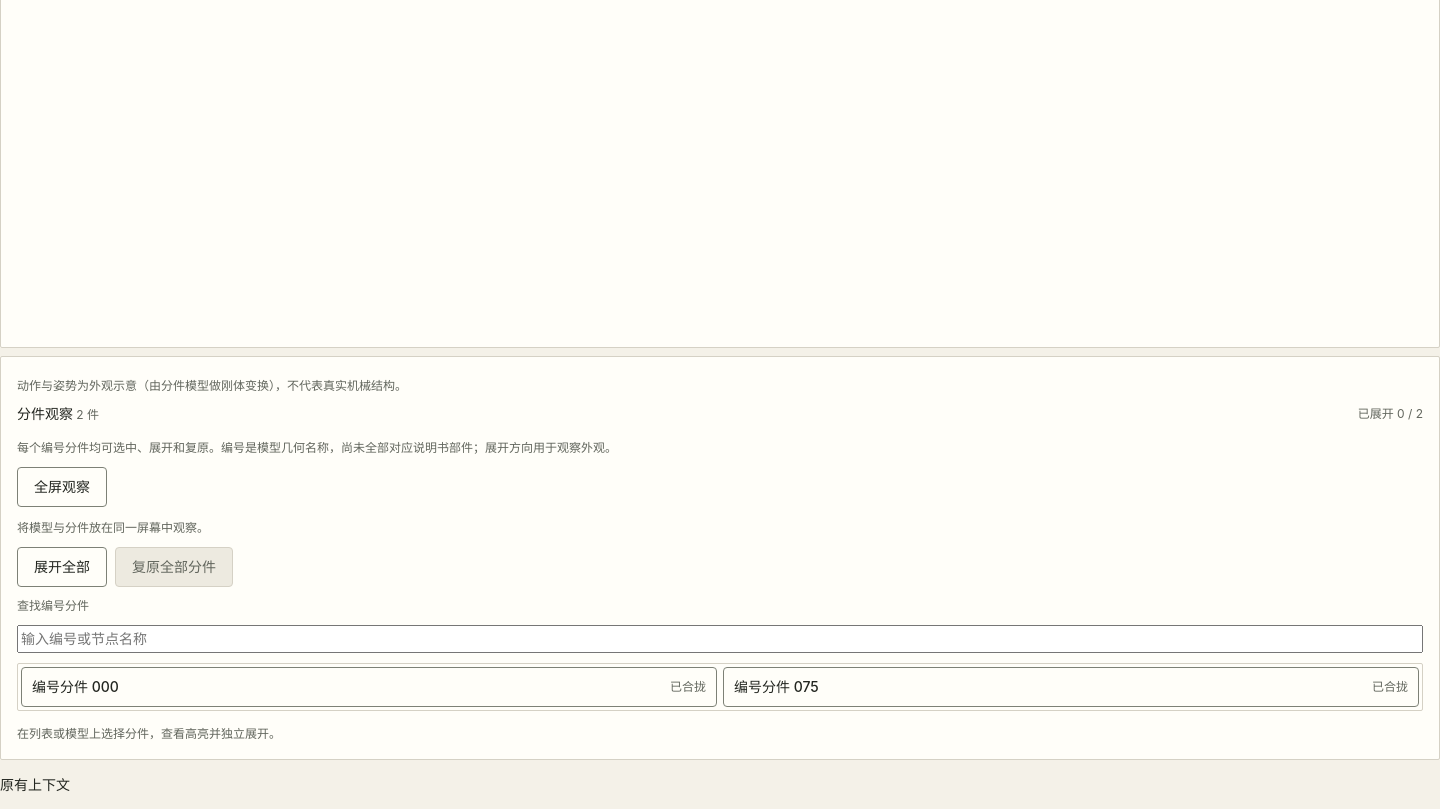
Test: 分件全屏观察 › Escape退出失败仅在本模型仍全屏时提示，浏览器同时已退出则不误报
(page scrolled)
Click the button with test id "parts-fullscreen". click: (62, 487)
box: [17,467,107,507]
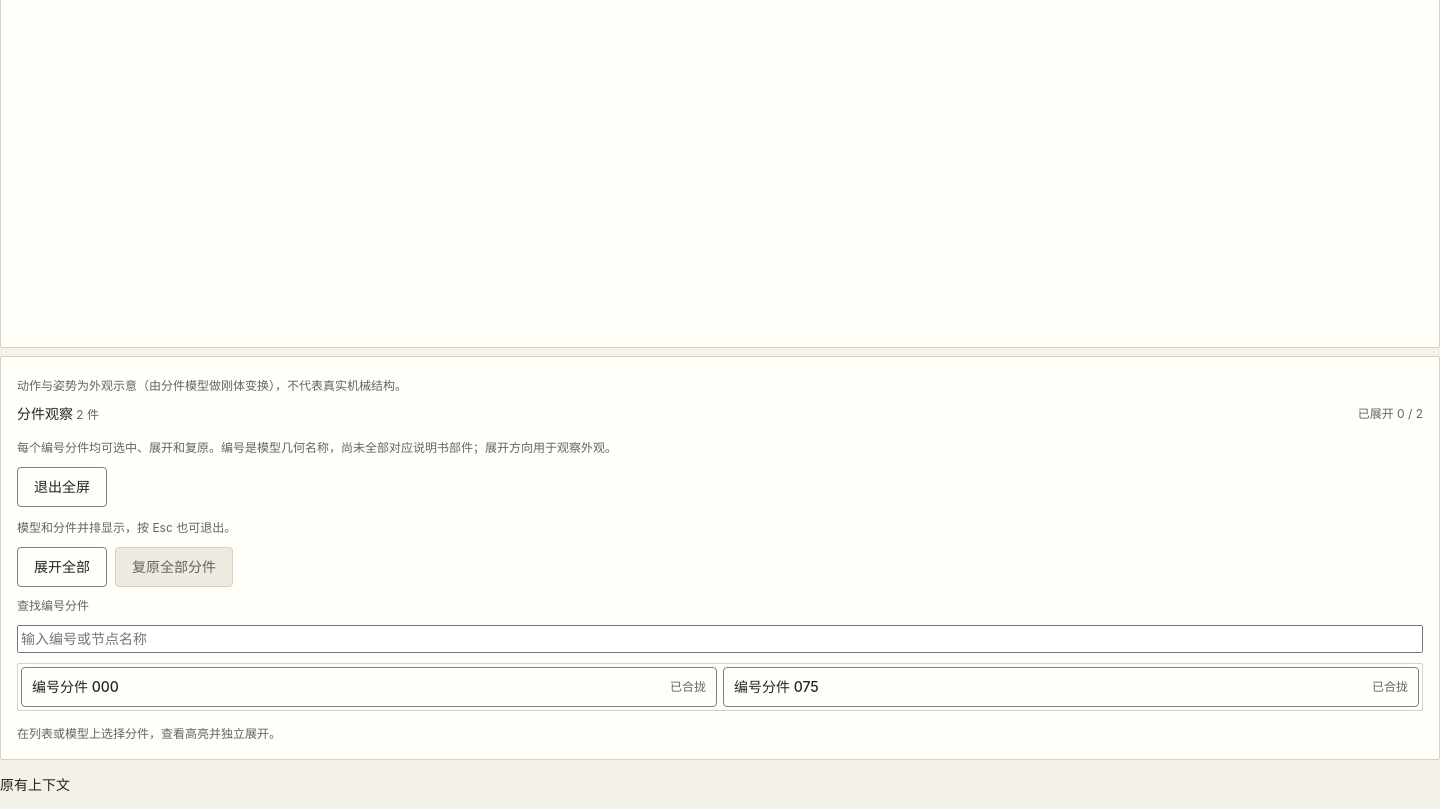
Check: the button with test id "parts-fullscreen" reads "退出全屏", box [17,467,107,507]
Press Escape
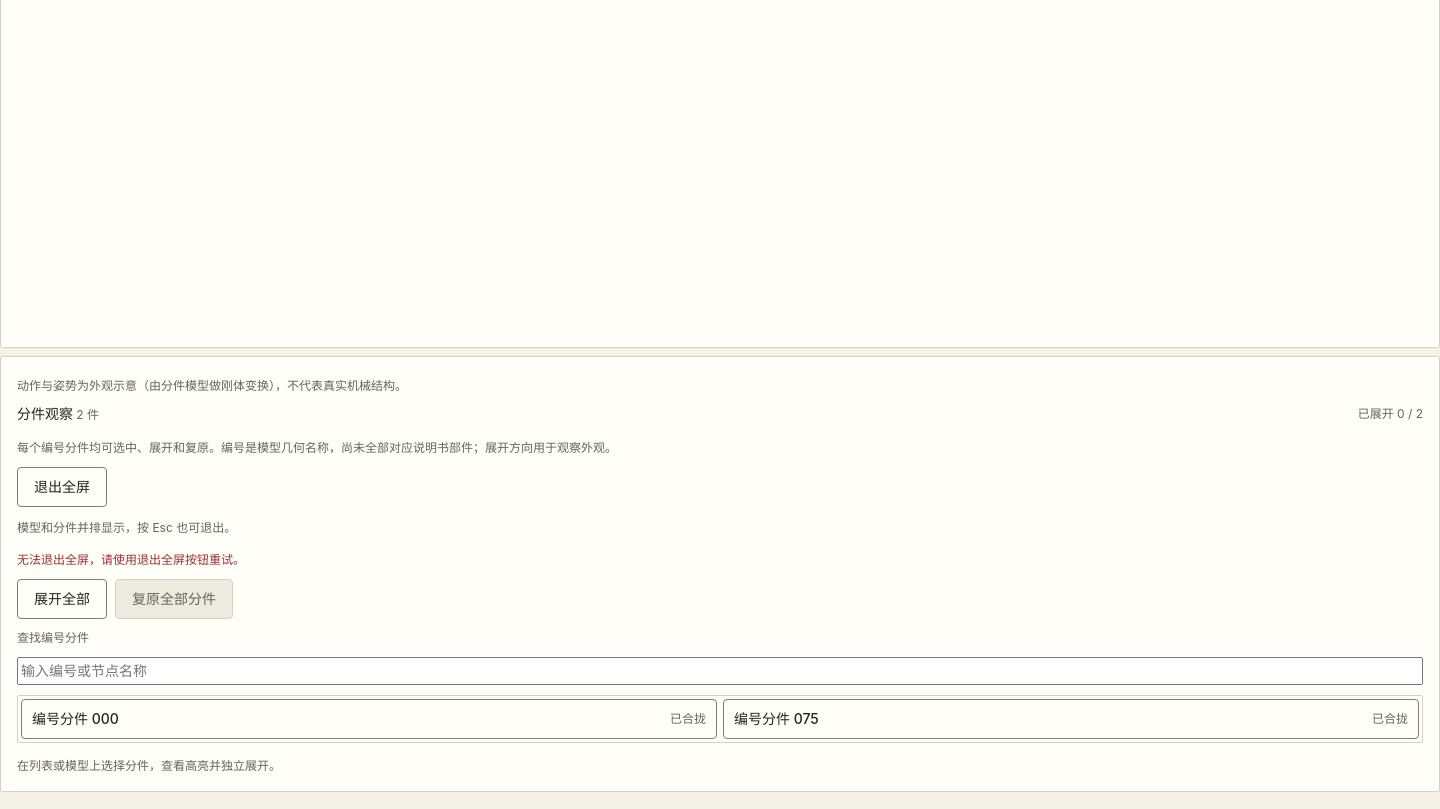
Check: the message "无法退出全屏，请使用退出全屏按钮重试。" is shown, box [17,552,245,567]
Press Escape
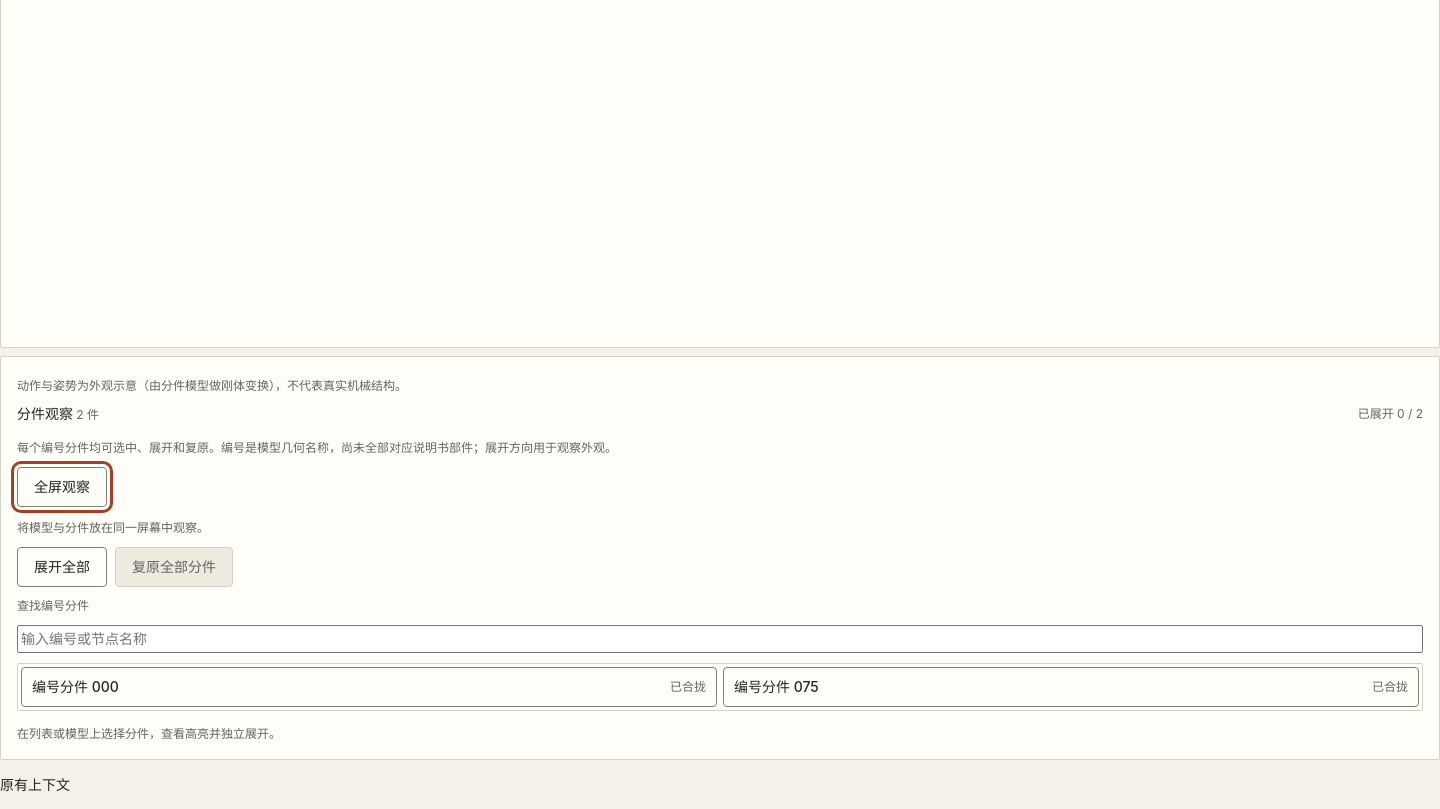
Check: the button with test id "parts-fullscreen" reads "全屏观察", box [17,467,107,507]
Check: the message "无法退出全屏，请使用退出全屏按钮重试。" is gone
